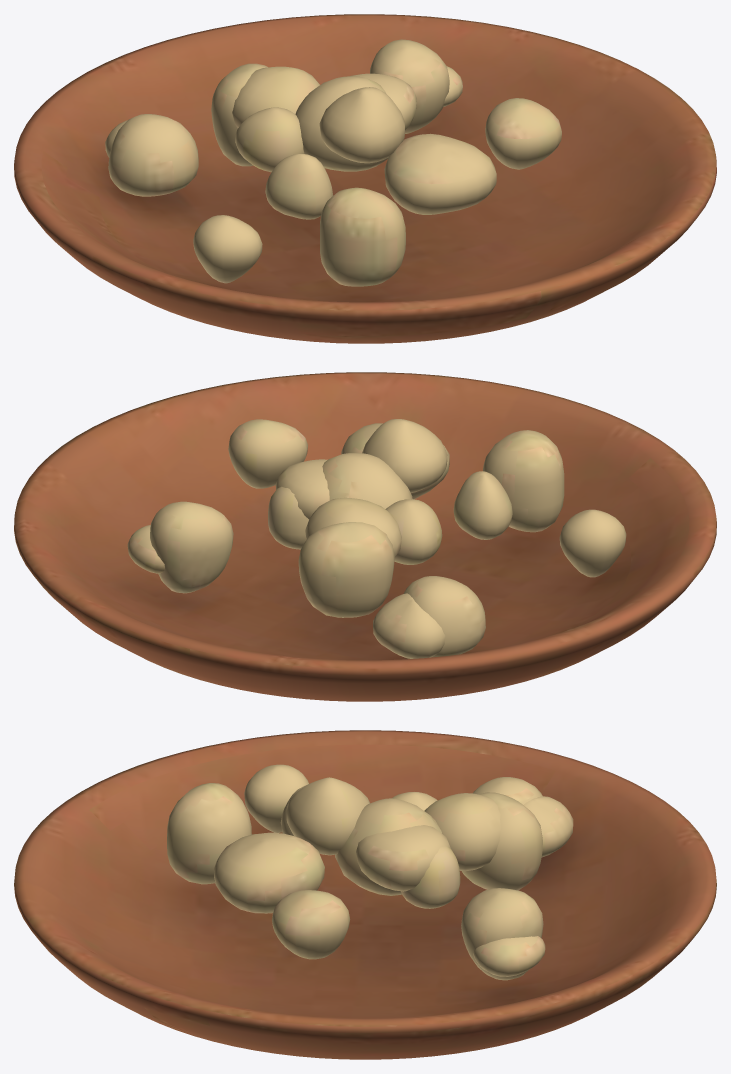
The model's file is frankincense.glb.
3 renders of one model, top to bottom at view 1: azimuth 30°, elevation 25°; view 2: azimuth 150°, elevation 25°; view 3: azimuth 270°, elevation 25°, orthographic.
Visible parts, largest first — view 1: frankincense; view 2: frankincense; view 3: frankincense.
Boxes of the visible parts, x1,y1,x2,y2 form: frankincense: (14, 14, 716, 343); frankincense: (14, 372, 716, 701); frankincense: (14, 730, 716, 1059).
Size of the model in its own units: 0.0901 by 0.0266 by 0.0901.
Materials: 1 (1 with a texture image).
